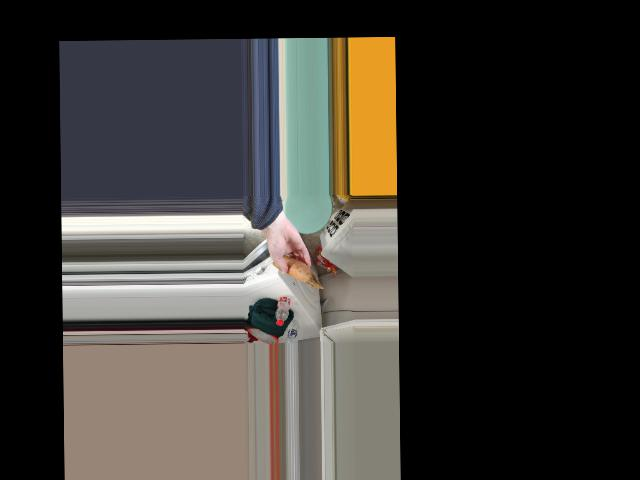sweet_potato: (277, 251, 309, 283)
